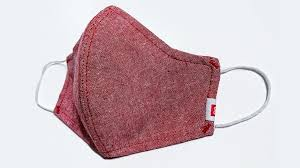cloth_mask: (34, 4, 271, 160)
